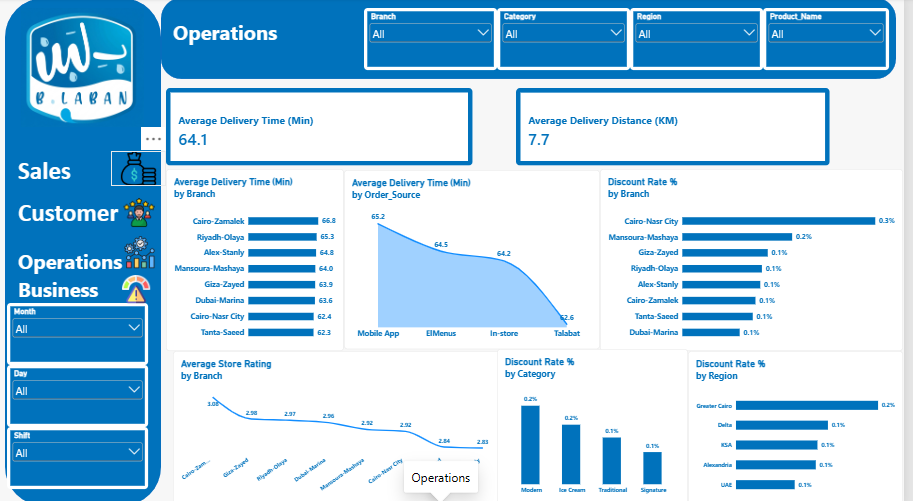

The page's visual inventory and layout, read from the dashboard file:
{"tool":"powerbi","page":{"name":"Operations","canvas":[1920,1080],"ordinal":2},"visuals":[{"type":"shape","box":[10.6,0,331.7,1080],"z":0},{"type":"shape","box":[342.3,0,1562.6,172.2],"z":1000},{"type":"image","box":[38.3,21.3,274.3,253],"z":2000},{"type":"image","box":[236,325.3,116.9,74.4],"z":3000},{"type":"image","box":[248.7,423.1,93.5,65.9],"z":4000},{"type":"textbox","box":[367.8,42.5,363.5,89.3],"z":5000},{"type":"textbox","box":[38.3,333.8,170.1,89.3],"z":6000},{"type":"textbox","box":[38.3,423.1,253,106.3],"z":7000},{"type":"textbox","box":[38.3,529.4,246.6,89.3],"z":8000},{"type":"image","box":[221.1,503.9,148.8,72.3],"z":9000},{"type":"cardVisual","fields":{"Data":["KPIs.Average Delivery Time (Min)"]},"box":[352.9,191.3,652.7,165.8],"z":10000},{"type":"cardVisual","fields":{"Data":["KPIs.Average Delivery Distance (KM)"]},"box":[1097,191.3,667.6,165.8],"z":11000},{"type":"clusteredBarChart","fields":{"Category":["datclean.Branch"],"Y":["KPIs.Average Delivery Time (Min)"]},"box":[352.9,363.5,378.4,386.9],"z":12000},{"type":"areaChart","fields":{"Category":["datclean.Order_Source"],"Y":["KPIs.Total Revenue"]},"box":[731.3,365.7,544.3,380.6],"z":13000},{"type":"lineChart","fields":{"Category":["datclean.Branch"],"Y":["KPIs.Average Store Rating"]},"box":[367.8,750.5,708,329.5],"z":14000},{"type":"slicer","fields":{"Values":["datclean.Branch"]},"box":[773.9,21.3,282.8,131.8],"z":15000},{"type":"slicer","fields":{"Values":["datclean.Region"]},"box":[1339.4,21.3,282.8,131.8],"z":16000},{"type":"slicer","fields":{"Values":["datclean.Category"]},"box":[1056.6,21.3,282.8,131.8],"z":17000},{"type":"slicer","fields":{"Values":["datclean.Product_Name"]},"box":[1622.1,21.3,267.9,131.8],"z":18000},{"type":"slicer","fields":{"Values":["datclean.Date_Time.Variation.Date Hierarchy.Month"]},"box":[14.9,648.4,299.8,131.8],"z":19000},{"type":"slicer","fields":{"Values":["datclean.Date_Time.Variation.Date Hierarchy.Day"]},"box":[14.9,780.2,299.8,131.8],"z":19001},{"type":"slicer","fields":{"Values":["datclean.Shift"]},"box":[14.9,912,299.8,131.8],"z":19002},{"type":"clusteredBarChart","fields":{"Category":["datclean.Branch"],"Y":["KPIs.Discount Rate %"]},"box":[1275.6,363.5,644.2,386.9],"z":19003},{"type":"columnChart","fields":{"Category":["datclean.Category"],"Y":["KPIs.Discount Rate %"]},"box":[1056.6,746.2,406.1,329.5],"z":19004},{"type":"clusteredBarChart","fields":{"Category":["datclean.Region"],"Y":["KPIs.Discount Rate %"]},"box":[1462.7,750.5,457.1,329.5],"z":19005},{"type":"image","box":[225.4,588.9,127.6,59.5],"z":19006},{"type":"textbox","box":[38.3,588.9,225.4,82.9],"z":19007}]}

Visuals, with their boxes in screenshot pixels (x1, y1, x2, y2), scaled from the page's 1920x1080 canvas onto the 913x501 screenshot:
shape: 5 0 163 500
shape: 163 0 906 80
image: 18 10 149 127
image: 112 151 168 185
image: 118 196 163 227
textbox: 175 20 348 61
textbox: 18 155 99 196
textbox: 18 196 139 246
textbox: 18 246 135 287
image: 105 234 176 267
cardVisual - KPIs.Average Delivery Time (Min): 168 89 478 166
cardVisual - KPIs.Average Delivery Distance (KM): 522 89 839 166
clusteredBarChart - datclean.Branch x KPIs.Average Delivery Time (Min): 168 169 348 348
areaChart - datclean.Order_Source x KPIs.Total Revenue: 348 170 607 346
lineChart - datclean.Branch x KPIs.Average Store Rating: 175 348 512 500
slicer - datclean.Branch: 368 10 502 71
slicer - datclean.Region: 637 10 771 71
slicer - datclean.Category: 502 10 637 71
slicer - datclean.Product_Name: 771 10 899 71
slicer - datclean.Date_Time.Variation.Date Hierarchy.Month: 7 301 150 362
slicer - datclean.Date_Time.Variation.Date Hierarchy.Day: 7 362 150 423
slicer - datclean.Shift: 7 423 150 484
clusteredBarChart - datclean.Branch x KPIs.Discount Rate %: 607 169 912 348
columnChart - datclean.Category x KPIs.Discount Rate %: 502 346 696 499
clusteredBarChart - datclean.Region x KPIs.Discount Rate %: 696 348 912 500
image: 107 273 168 301
textbox: 18 273 125 312
